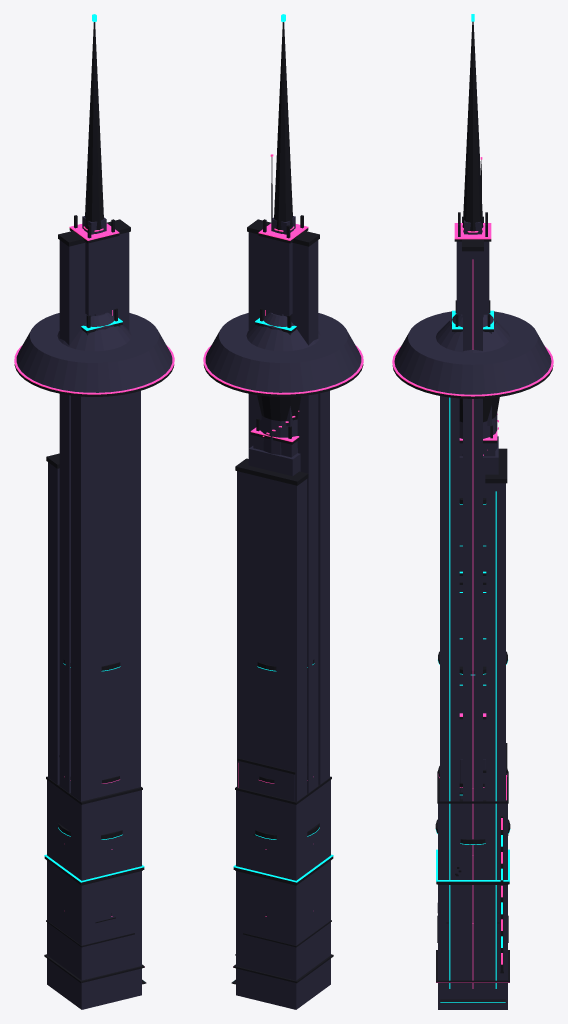
File: towers.glb
3 views of the same model, side by side, from view 1: azimuth 30°, elevation 25°; view 2: azimuth 150°, elevation 25°; view 3: azimuth 270°, elevation 25° (orthographic).
Parts seen in each view (by area): view 1: mega_slabs__wall, mega_disc__wall, mega_arcology__wall, overhang__wall, mega_spire__trim, market__wall, hotel__wall, mega_arcology__trim, mega_slabs__trim, mega_disc__neon_pink, mega_disc__trim, overhang__trim; view 2: mega_slabs__wall, mega_disc__wall, mega_arcology__wall, overhang__wall, mega_spire__trim, market__wall, hotel__wall, twin__wall, mega_disc__trim, mega_arcology__trim, mega_slabs__trim, mega_helix__wall (+3 smaller); view 3: mega_slabs__wall, mega_disc__wall, mega_arcology__wall, mega_spire__trim, mega_slabs__neon_cyan, mega_slabs__neon_pink, mega_arcology__trim, mega_disc__trim, overhang__wall, mega_slabs__trim, overhang__trim, mega_disc__neon_pink (+3 smaller).
Boxes of the visible parts, x1,y1,x2,y2 form: mega_slabs__wall: (48,232,140,1008); mega_disc__wall: (16,312,172,392); mega_arcology__wall: (47,216,141,967); overhang__wall: (47,780,141,880); mega_spire__trim: (85,22,103,230); market__wall: (47,922,133,980); hotel__wall: (47,958,141,1009); mega_arcology__trim: (44,215,144,885); mega_slabs__trim: (46,219,130,468); mega_disc__neon_pink: (14,345,174,394); mega_disc__trim: (14,364,174,396); overhang__trim: (46,776,146,984); mega_slabs__wall: (237,232,329,1008); mega_disc__wall: (205,312,361,476); mega_arcology__wall: (236,216,330,967); overhang__wall: (236,780,330,880); mega_spire__trim: (274,22,292,230); market__wall: (244,922,330,980); hotel__wall: (236,958,330,1009); twin__wall: (238,761,294,801); mega_disc__trim: (203,364,363,421); mega_arcology__trim: (233,157,333,885); mega_slabs__trim: (235,219,319,485); mega_helix__wall: (260,324,297,454); mega_slabs__wall: (440,251,505,1009); mega_disc__wall: (394,311,551,713); mega_arcology__wall: (438,220,507,980); mega_spire__trim: (462,21,483,231); mega_slabs__neon_cyan: (449,397,496,988); mega_slabs__neon_pink: (472,259,473,988); mega_arcology__trim: (436,160,509,884); mega_disc__trim: (392,365,553,667); overhang__wall: (438,803,507,879); mega_slabs__trim: (462,216,507,483); overhang__trim: (437,771,508,1002); mega_disc__neon_pink: (392,346,553,396).
Bounding box in the file's own units: 69.4 × 465 × 69.4.
